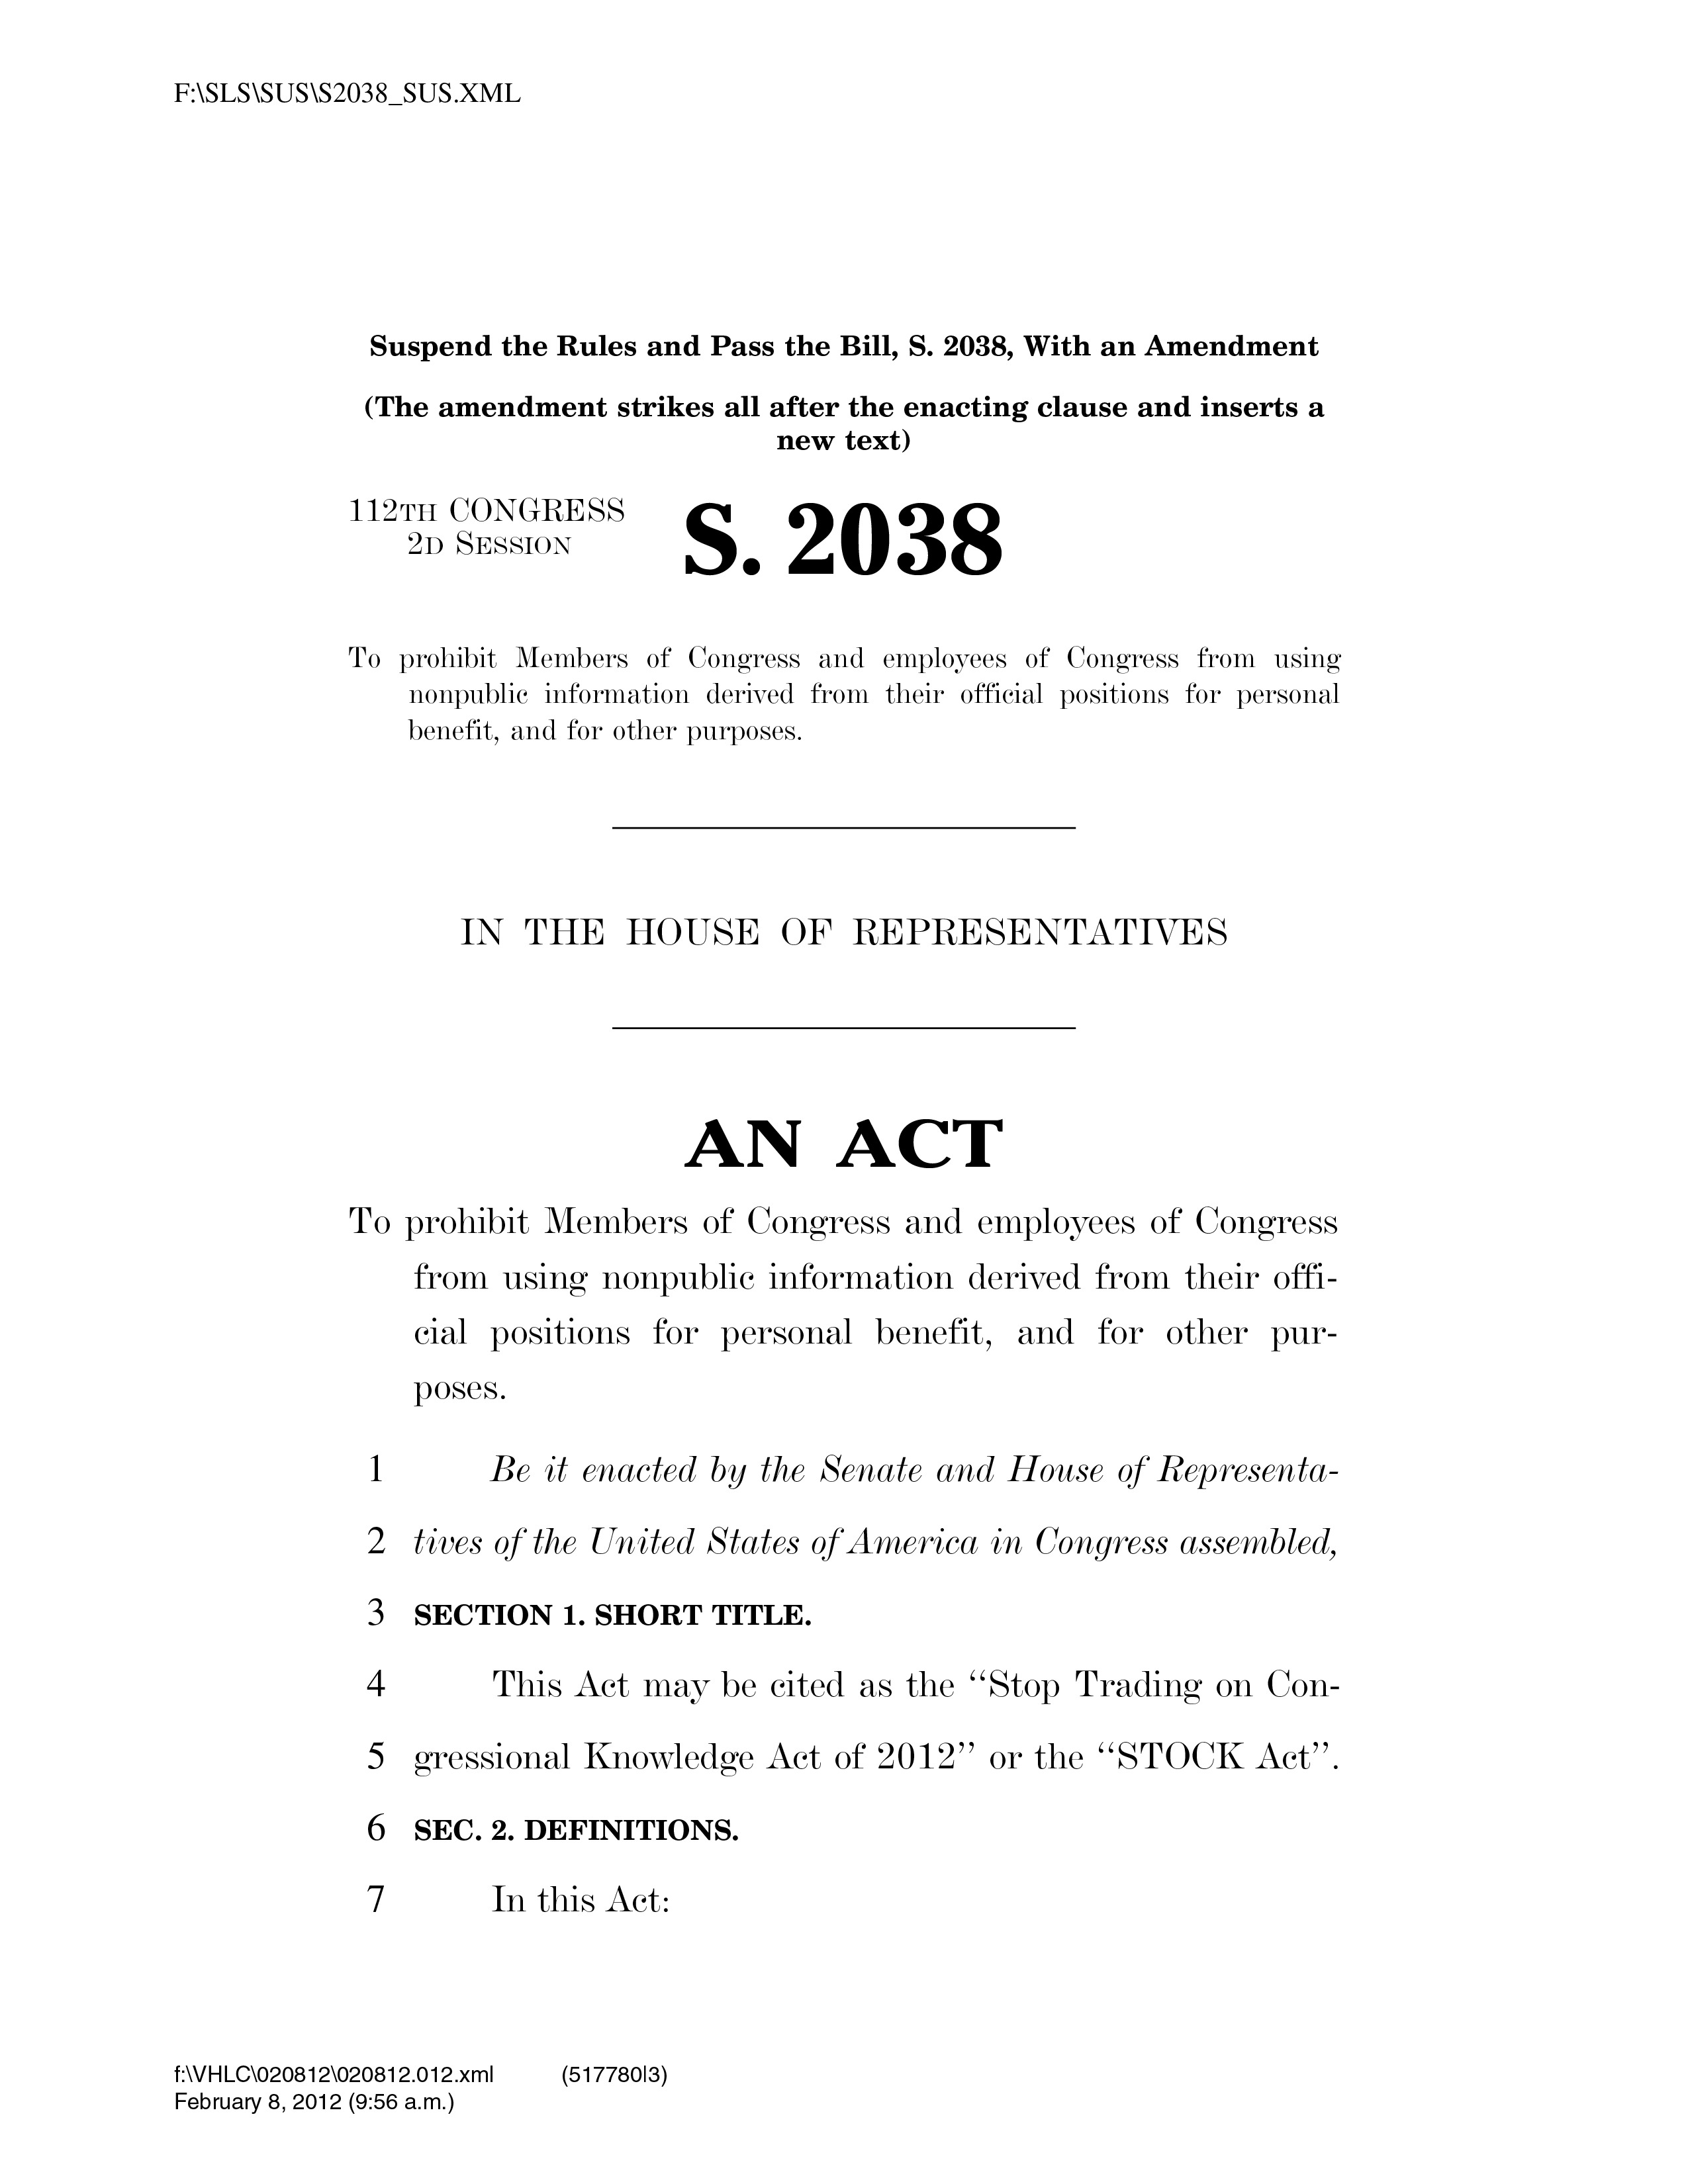list: (356, 1438, 1348, 1923)
section: (463, 911, 1236, 959), (690, 491, 998, 583), (677, 1115, 998, 1177), (369, 1594, 816, 1636), (363, 1812, 754, 1851)
text: (360, 1202, 1340, 1408), (353, 645, 1353, 750), (360, 326, 1332, 425), (372, 1523, 1339, 1569), (376, 1450, 1328, 1491), (372, 1665, 1340, 1704), (372, 1737, 1339, 1776), (170, 2058, 495, 2117), (349, 496, 622, 558), (174, 80, 539, 110), (365, 1883, 674, 1918), (562, 2065, 667, 2094)
